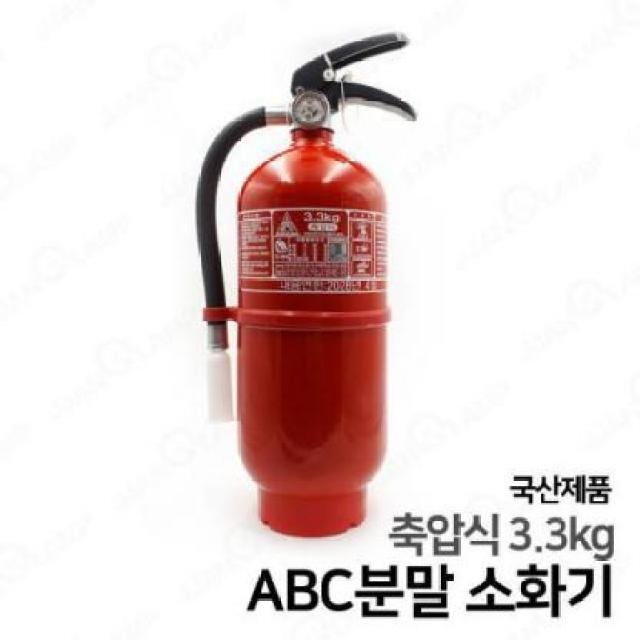fire extinguisher: (195, 31, 416, 537)
